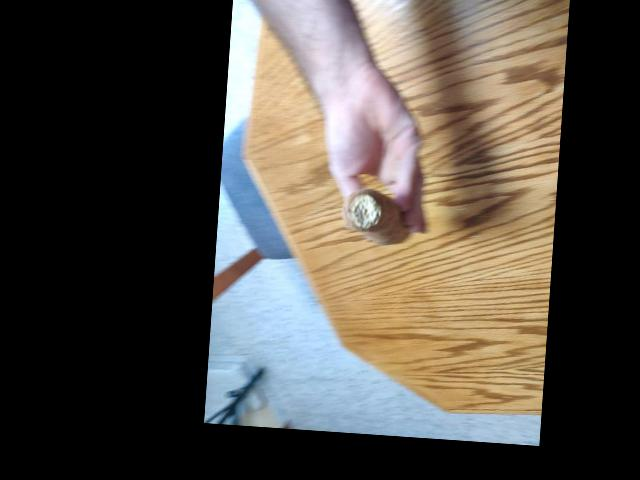sweet_potato: (332, 170, 417, 255)
